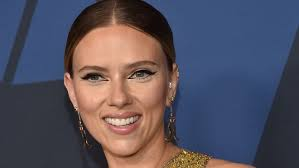white_female: (60, 24, 179, 162)
